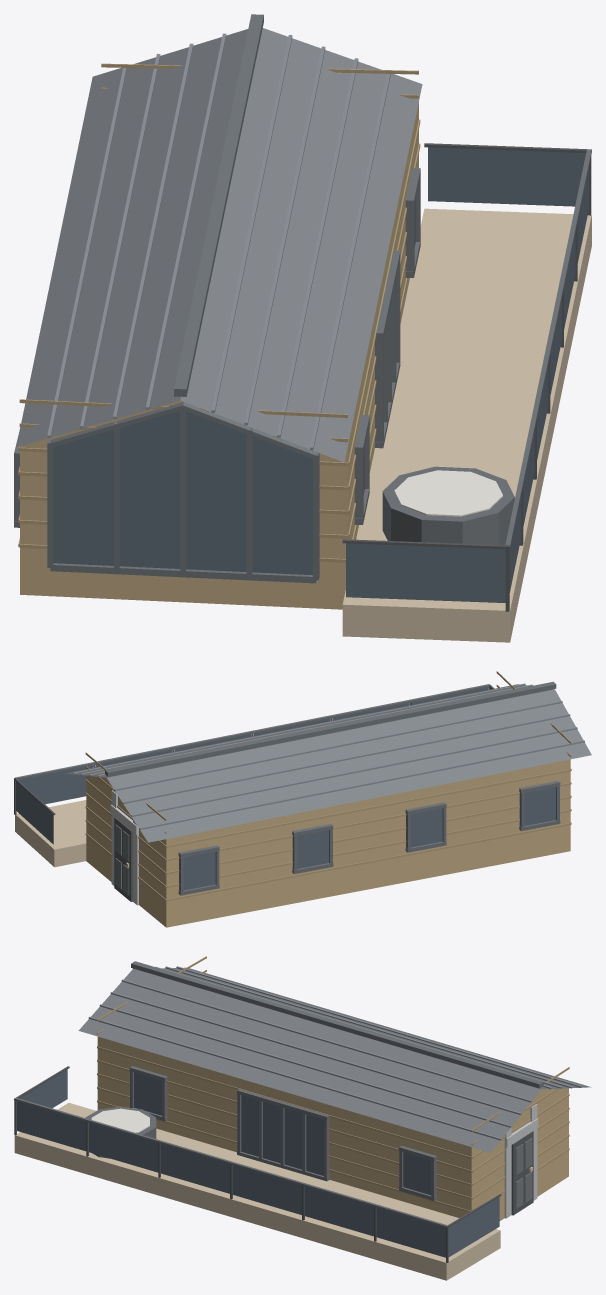
The picture shows the model from 3 angles, top to bottom: view 1: azimuth 30°, elevation 25°; view 2: azimuth 150°, elevation 25°; view 3: azimuth 270°, elevation 25°; orthographic projection. The views are drawn at different scales.
Visible parts, largest first — view 1: slate, larch, window_glass_015, slate_dk, door_wood, slate_lt, window_glass_007, window_glass_008, band_dark, door_wood_p, string, pipe; view 2: door_wood, slate, slate_dk, slate_lt, door_wood_p, larch, window_glass_006, window_glass_008, stone_band, window_glass_016, window_glass_018, window_glass_019 (+3 smaller); view 3: slate, door_wood, larch, slate_dk, slate_lt, door_wood_p, window_glass_002, window_glass_003, window_glass_005, window_glass_004, window_glass_006, window_glass_001 (+14 smaller).
Part boxes in pixels (<box>): slate: <box>16,28,422,462</box>; larch: <box>342,208,591,642</box>; window_glass_015: <box>53,411,312,575</box>; slate_dk: <box>14,14,591,583</box>; door_wood: <box>20,102,418,609</box>; slate_lt: <box>47,33,390,450</box>; window_glass_007: <box>346,543,505,602</box>; window_glass_008: <box>428,147,585,206</box>; band_dark: <box>382,466,514,545</box>; door_wood_p: <box>18,63,420,562</box>; string: <box>394,470,502,516</box>; pipe: <box>342,143,591,611</box>; door_wood: <box>86,759,570,927</box>; slate: <box>65,684,591,842</box>; slate_dk: <box>15,681,560,895</box>; slate_lt: <box>73,683,584,829</box>; door_wood_p: <box>85,671,571,901</box>; larch: <box>15,800,86,867</box>; window_glass_006: <box>18,765,92,804</box>; window_glass_008: <box>16,781,53,844</box>; stone_band: <box>110,790,138,905</box>; window_glass_016: <box>183,851,215,890</box>; window_glass_018: <box>411,808,442,847</box>; window_glass_019: <box>524,787,555,825</box>; slate: <box>78,967,591,1152</box>; door_wood: <box>97,1036,568,1220</box>; larch: <box>14,1103,500,1280</box>; slate_dk: <box>14,961,543,1227</box>; slate_lt: <box>88,966,582,1140</box>; door_wood_p: <box>97,956,569,1212</box>; window_glass_002: <box>89,1122,158,1172</box>; window_glass_003: <box>160,1143,229,1193</box>; window_glass_005: <box>304,1186,373,1236</box>; window_glass_004: <box>232,1165,301,1214</box>; window_glass_006: <box>376,1207,445,1257</box>; window_glass_001: <box>17,1101,86,1151</box>.
Bounding box in the file's own units: 13.31 × 3.64 × 14.73.
